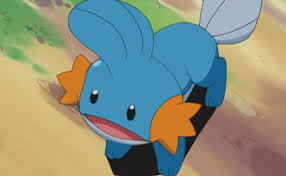mudkip: (56, 1, 265, 174)
